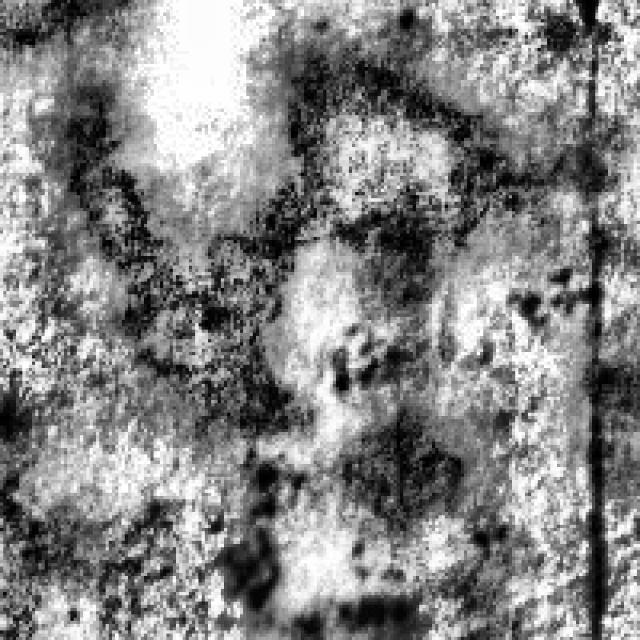Patches: (198, 444, 416, 628)
Scratches: (54, 51, 541, 426), (301, 394, 493, 588), (0, 0, 157, 93)
